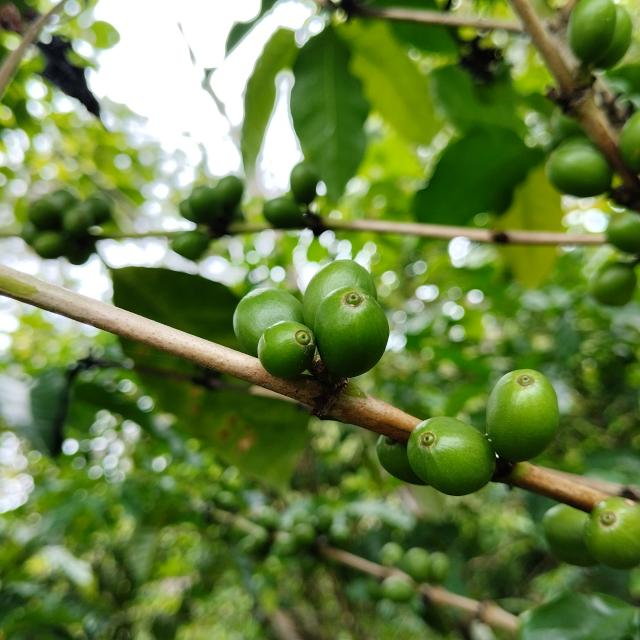green: (408, 417, 497, 496), (314, 287, 390, 378), (487, 369, 560, 462), (303, 259, 378, 330), (233, 288, 304, 357), (586, 498, 640, 570), (543, 504, 598, 568), (257, 321, 316, 379), (377, 436, 428, 486)
